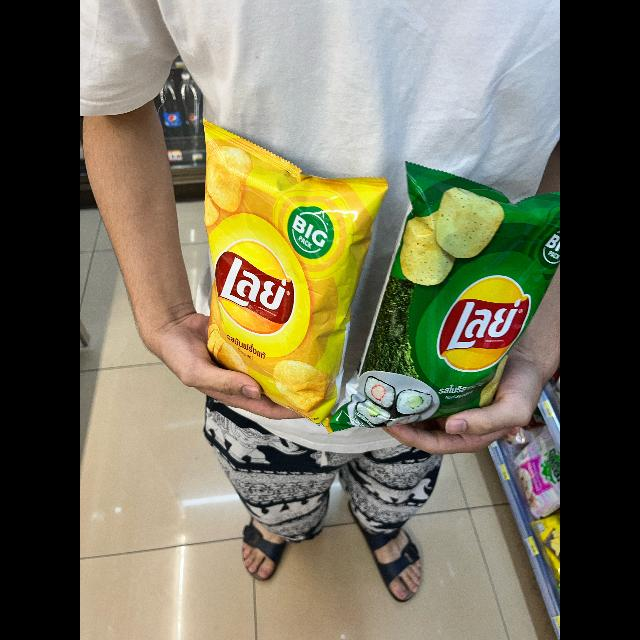snack_bag: (368, 141, 560, 447), (180, 113, 358, 439)
